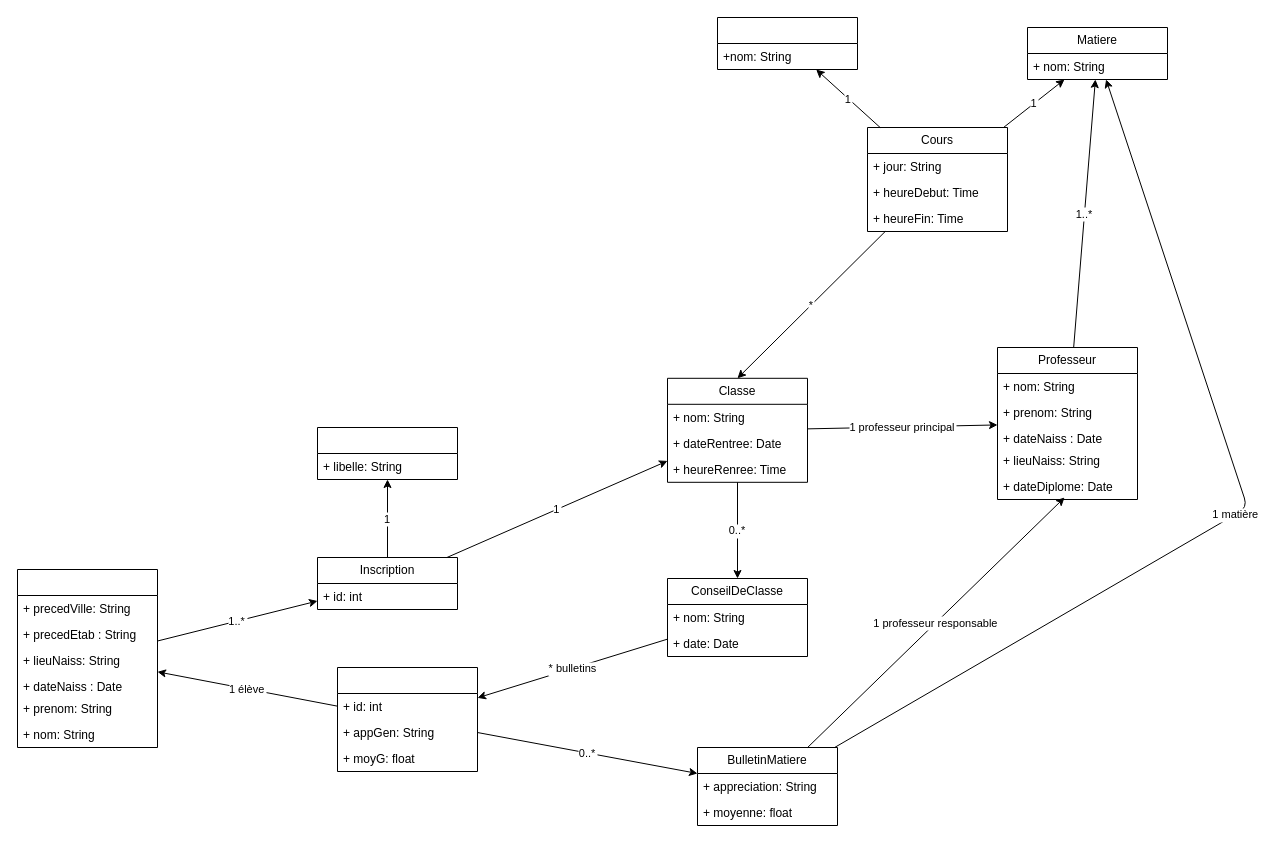
This 1277x846 diagram has some shape labels left out. Here are the shapes that lost their labels. From the top down, the box of each, then its label:
(716, 16, 858, 70): Salle
(316, 426, 458, 480): AnnéeScolaire
(16, 568, 158, 748): Élève
(336, 666, 478, 772): Bulletin
